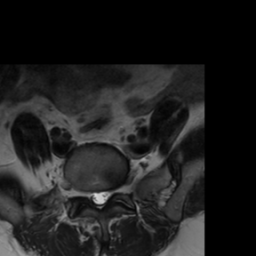CCS_stenosis: (96, 182, 103, 214)
LFS_stenosis: (110, 180, 118, 202)
LLS_normal: (103, 182, 110, 208)
RFS_stenosis: (80, 180, 88, 205)
RLS_normal: (88, 182, 96, 208)
